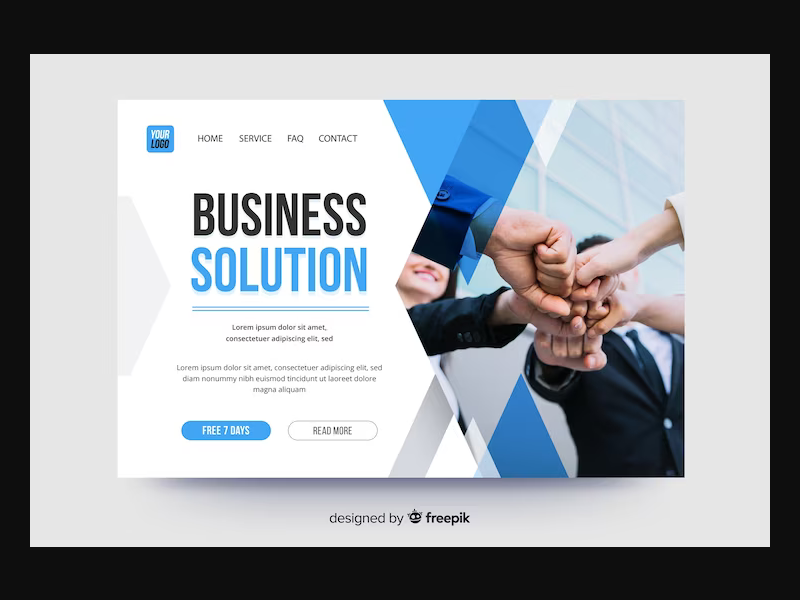menu-bar: (119, 100, 676, 194)
